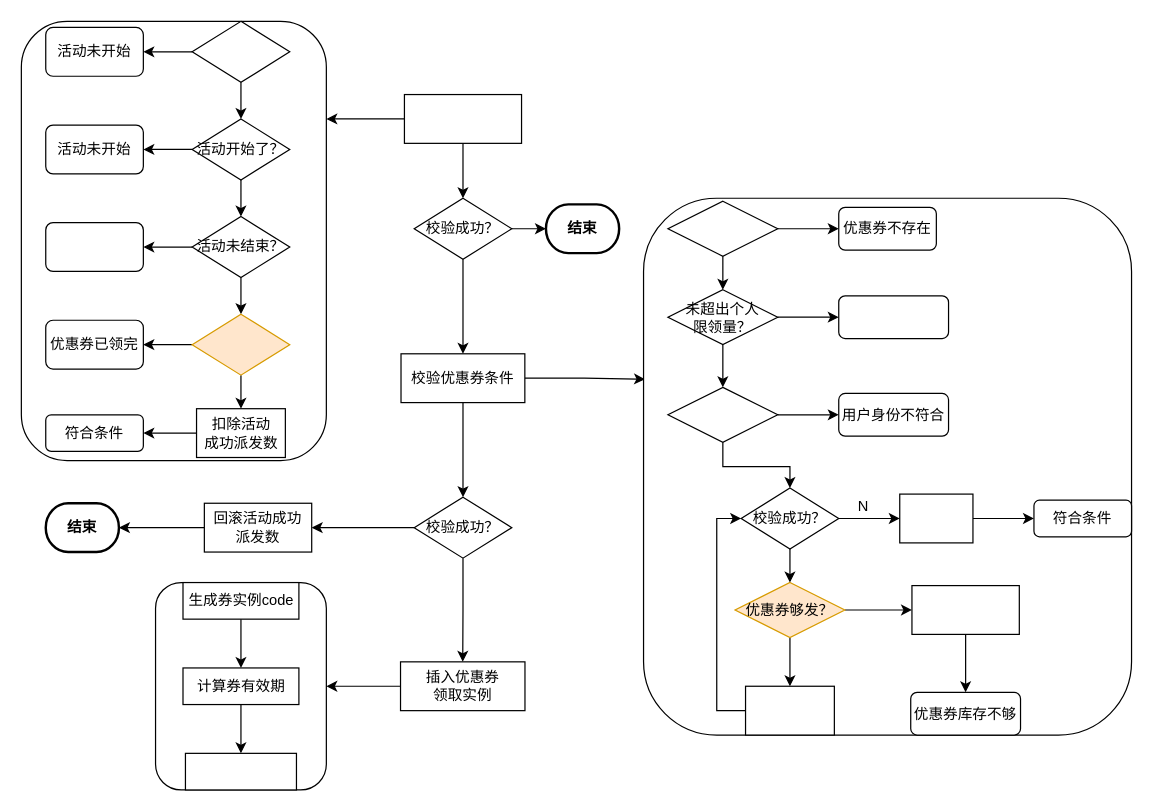
This 1153x811 diagram has some shape labels left out. The centre of each missing label's shape, as x and y in pixels:
"优惠券存在？" belongs at (722,228).
"回滚扣除的 优惠券数" belongs at (965,609).
"扣除优惠券库存" belongs at (789,710).
"扣除礼包券库存" belongs at (936,518).
"校验活动条件" belongs at (462,118).
"活动优惠券有剩余？" belongs at (240,344).
"活动存在？" belongs at (240,51).
"活动已结束" belongs at (94,246).
"用户符合 领取条件？" belongs at (722,414).
"组装券实例信息" belongs at (240,771).
"超出个人限领量" belongs at (893,317).
